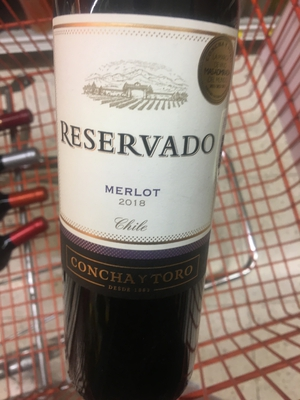reservado merlot: (47, 9, 246, 389)
